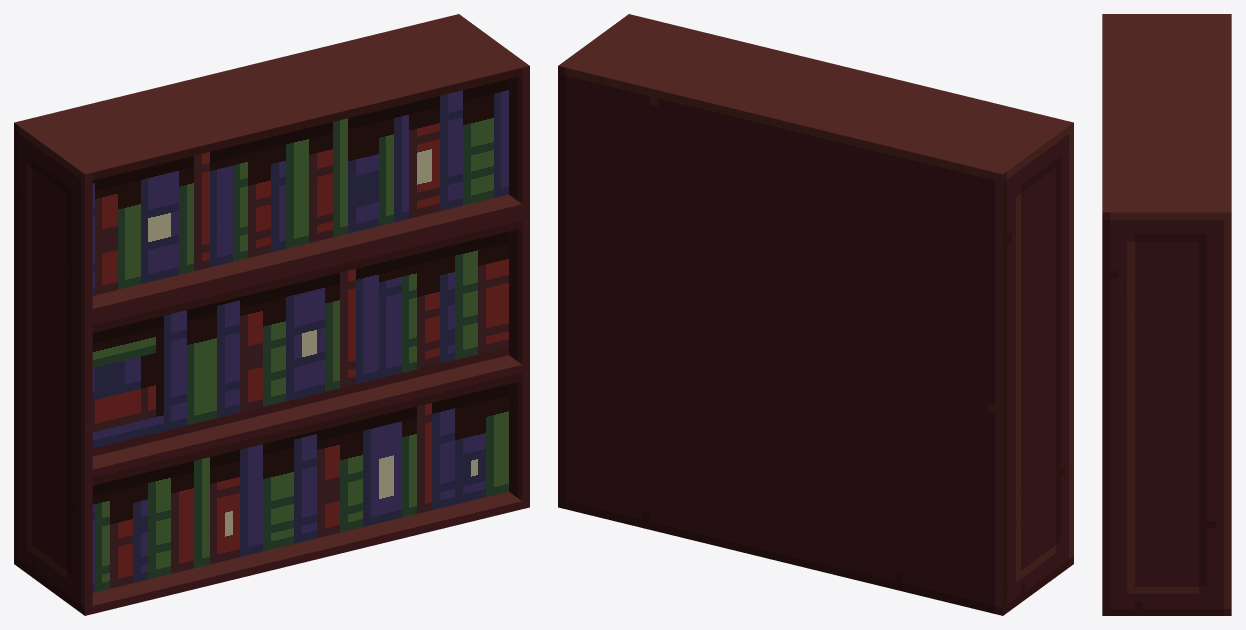
The model's file is bookshelfao.fezao.glb.
3 renders of one model, left to right at view 1: azimuth 30°, elevation 25°; view 2: azimuth 150°, elevation 25°; view 3: azimuth 270°, elevation 25°, orthographic. The views are drawn at different scales.
Visible parts, largest first — view 1: BOOKSHELFAO; view 2: BOOKSHELFAO; view 3: BOOKSHELFAO.
Part boxes in pixels (left/top/right/bottom): BOOKSHELFAO: left=14, top=14, right=529, bottom=615; BOOKSHELFAO: left=558, top=14, right=1073, bottom=615; BOOKSHELFAO: left=1102, top=14, right=1231, bottom=615.
Bounding box in the file's own units: 3.62 × 3.44 × 1.
Materials: 1 (1 with a texture image).
